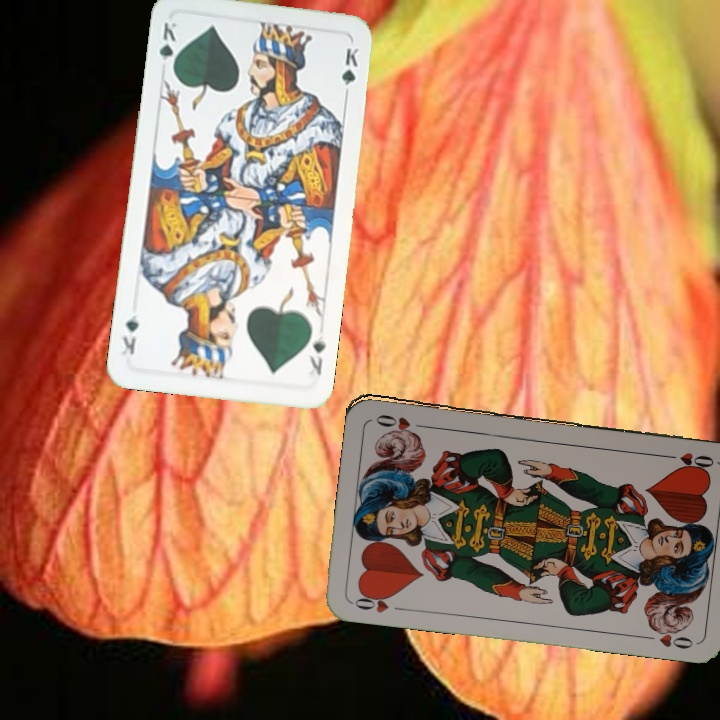GK: (155, 18, 180, 76), (305, 331, 328, 378)
HO: (348, 587, 407, 615), (658, 448, 717, 469)
